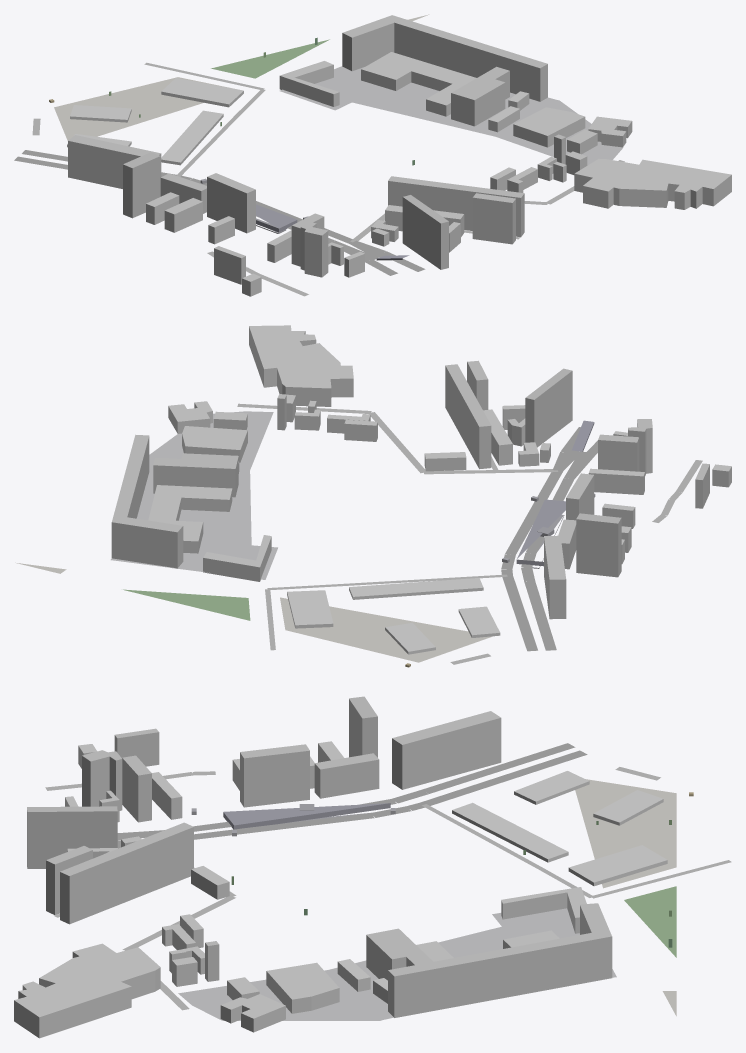
The picture shows the model from 3 angles, top to bottom: view 1: azimuth 30°, elevation 25°; view 2: azimuth 150°, elevation 25°; view 3: azimuth 270°, elevation 25°; orthographic projection. The views are drawn at different scales.
Size of the model in its own units: 585 by 62.74 by 591.
